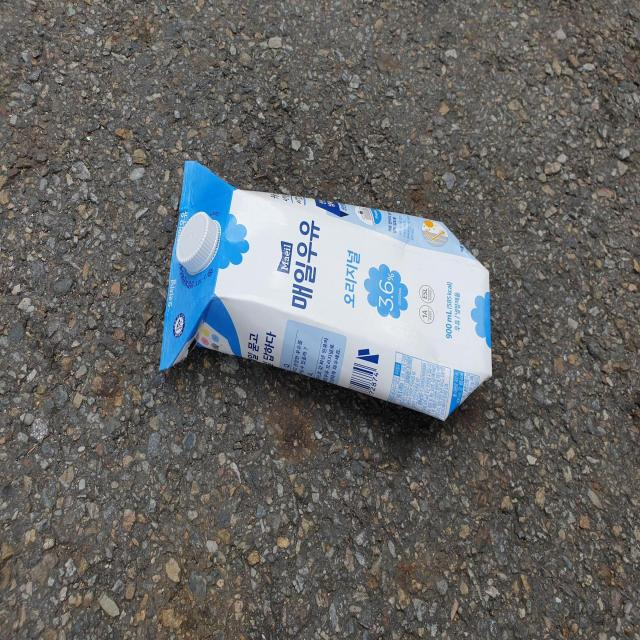paperpack: (159, 160, 493, 420)
